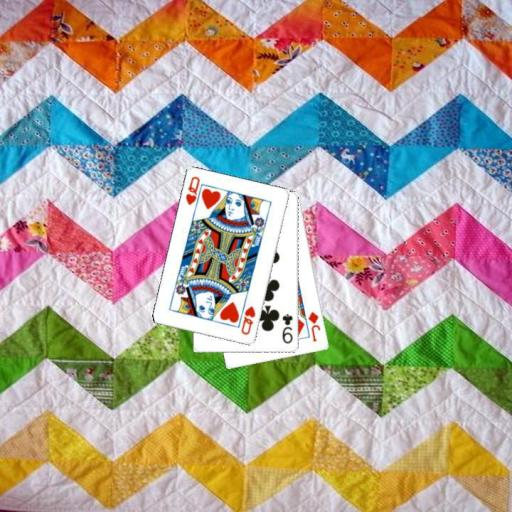9C: (280, 311, 295, 345)
JD: (305, 309, 322, 344)
QH: (183, 174, 205, 213), (238, 303, 257, 336)
